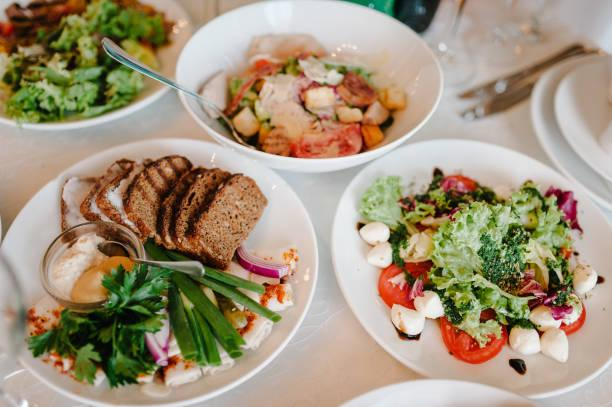Braised Crucian Carp: (1, 144, 316, 398), (338, 138, 612, 397), (172, 0, 446, 178)
